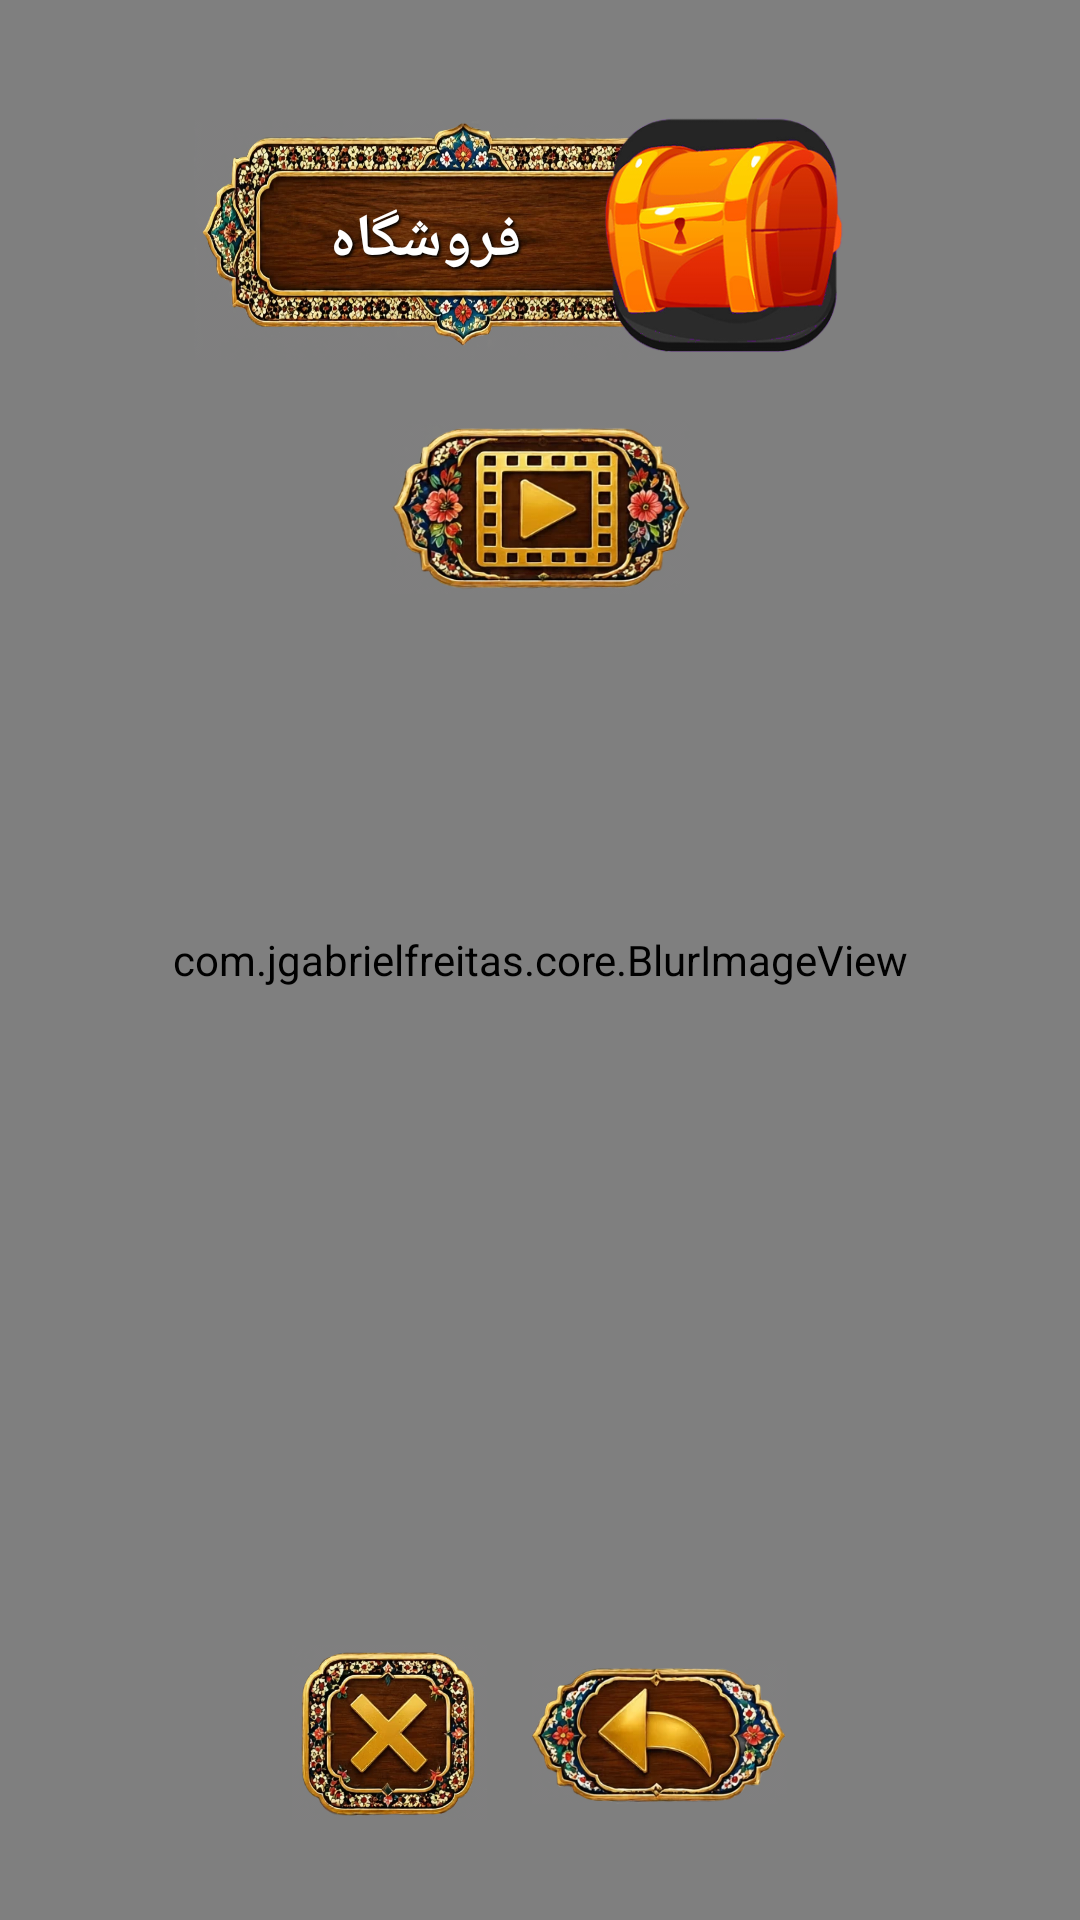

Where to tap for icons on this 1080×1920 app screen, as [x,y]:
back: [658,1735]
close: [388,1734]
sandogh: [713,235]
video: [541,508]
